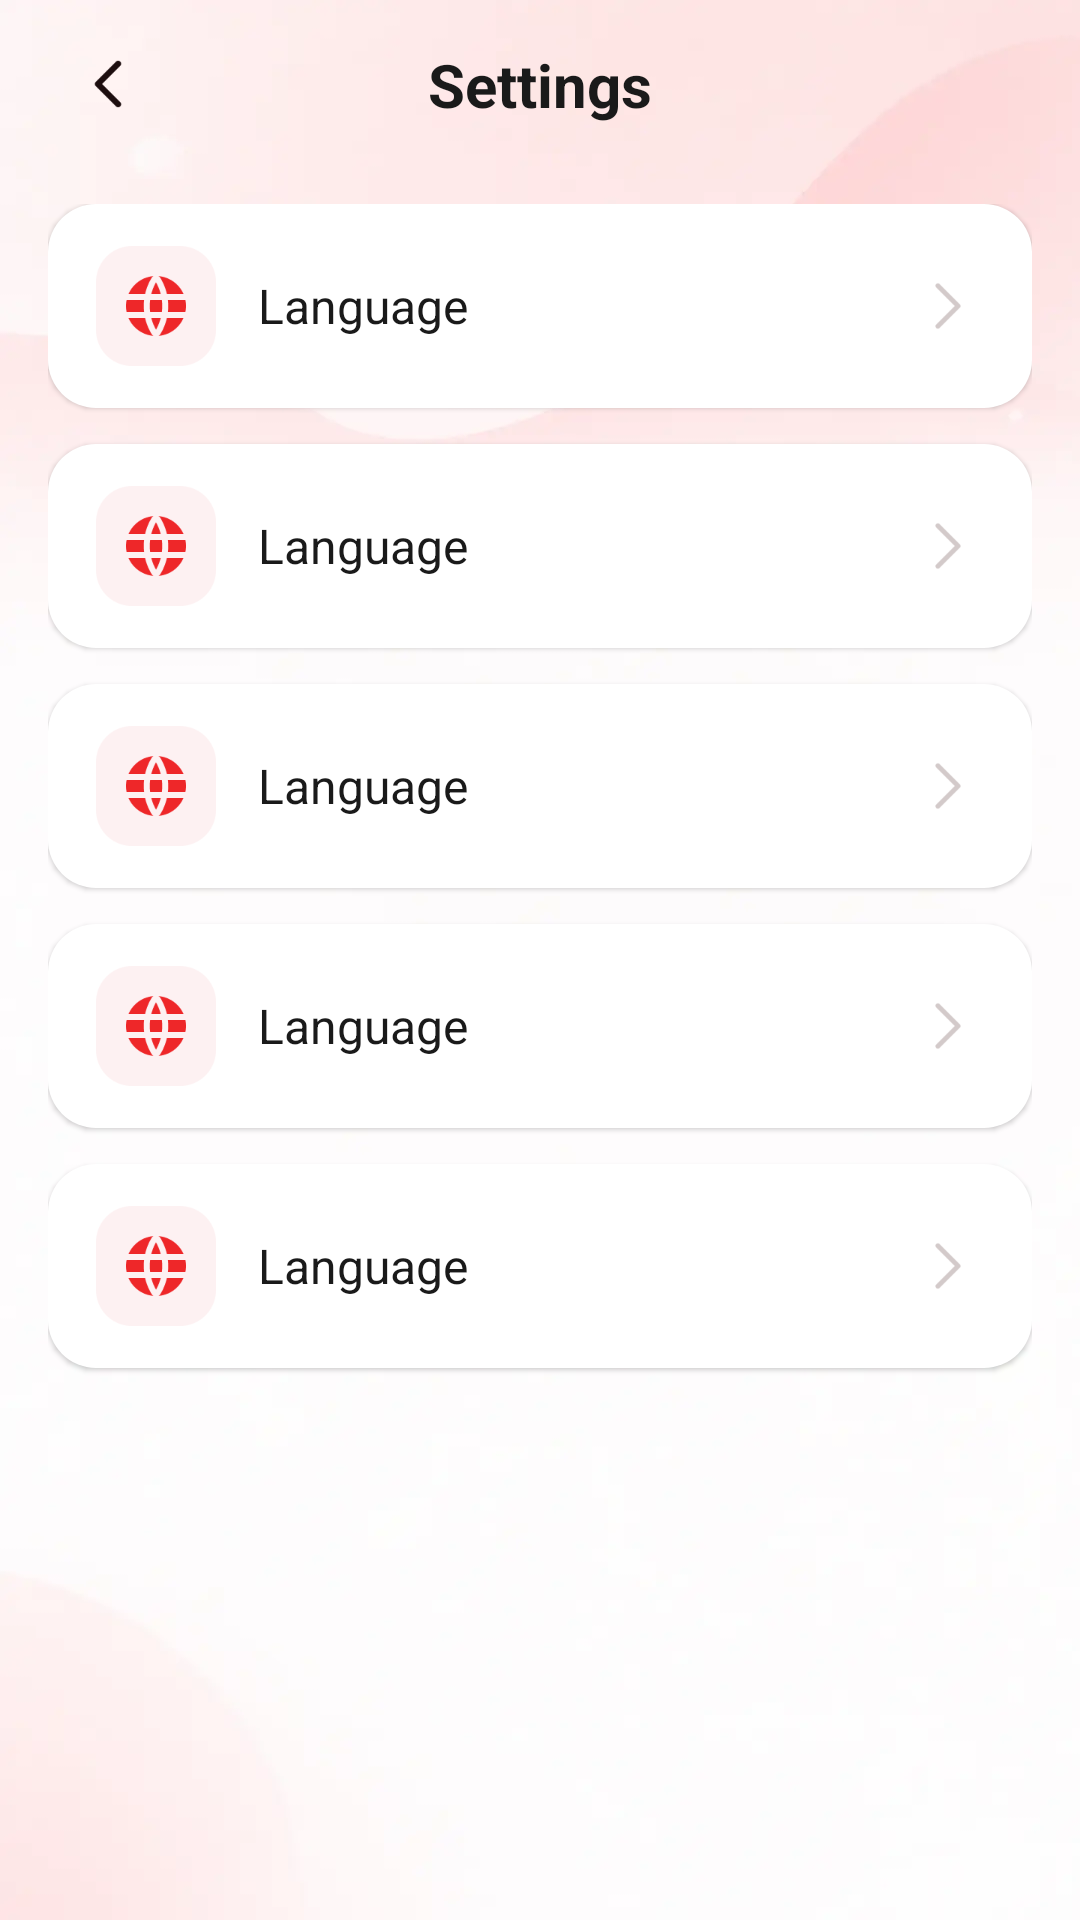

Locate icon controls on the screen. Image size 1080 × 1920, boxes as (x1, y1, x2, y2).
Back: (94, 60, 122, 108)
next: (935, 283, 961, 329), (935, 523, 961, 569), (935, 763, 961, 809), (935, 1003, 961, 1049), (935, 1243, 961, 1289)
